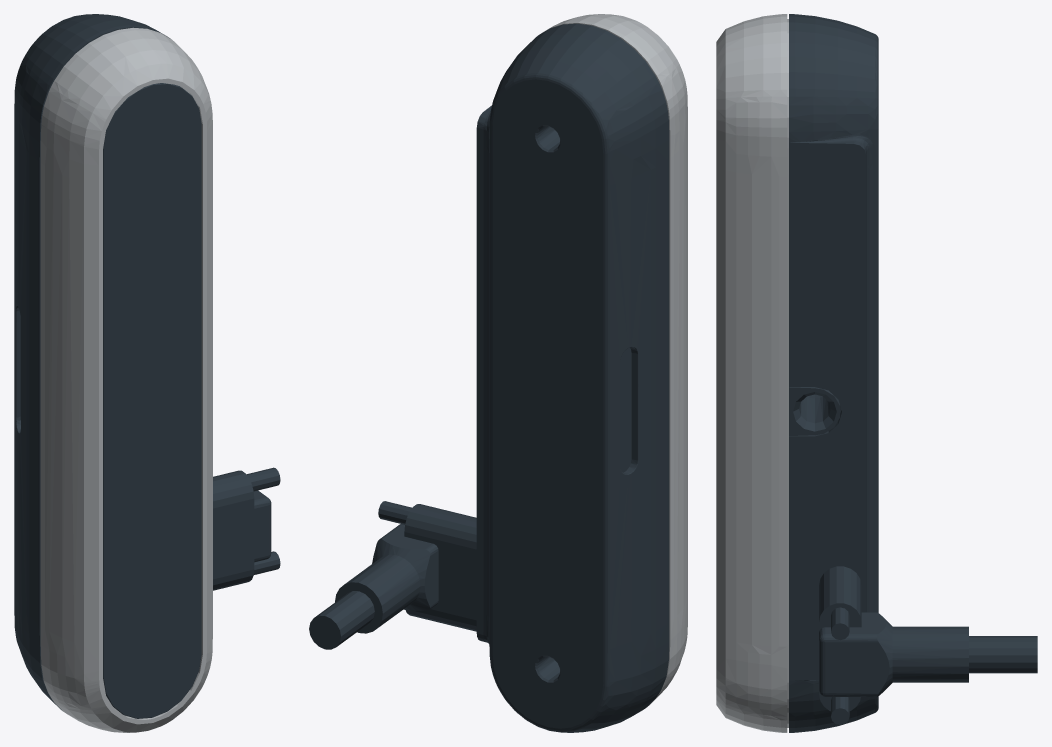
3 renders of one model, left to right at view 1: azimuth 30°, elevation 25°; view 2: azimuth 150°, elevation 25°; view 3: azimuth 270°, elevation 25°, orthographic.
Parts seen in each view (by area): view 1: head_d455; view 2: head_d455; view 3: head_d455.
Part boxes in pixels (x1,y1,x2,y2): head_d455: (14, 14, 280, 732); head_d455: (309, 14, 687, 732); head_d455: (716, 14, 1037, 732).
Size of the model in its own units: 0.049 by 0.124 by 0.0515.
